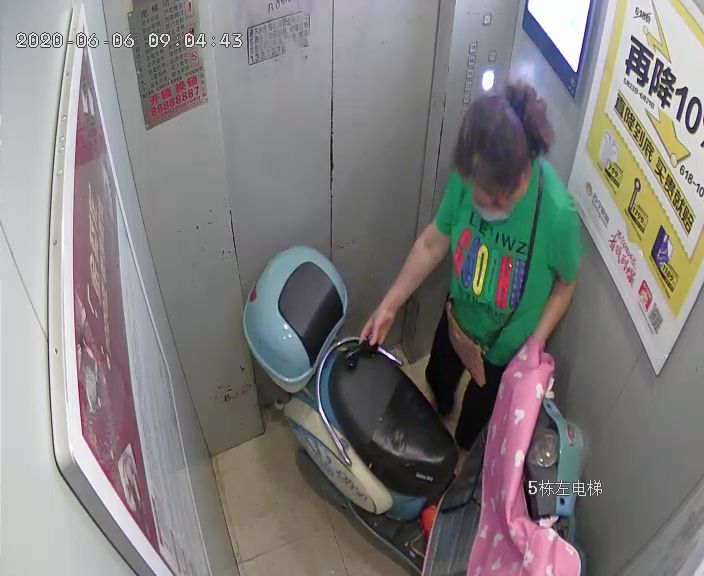Electric-bicycle: (238, 244, 588, 575)
